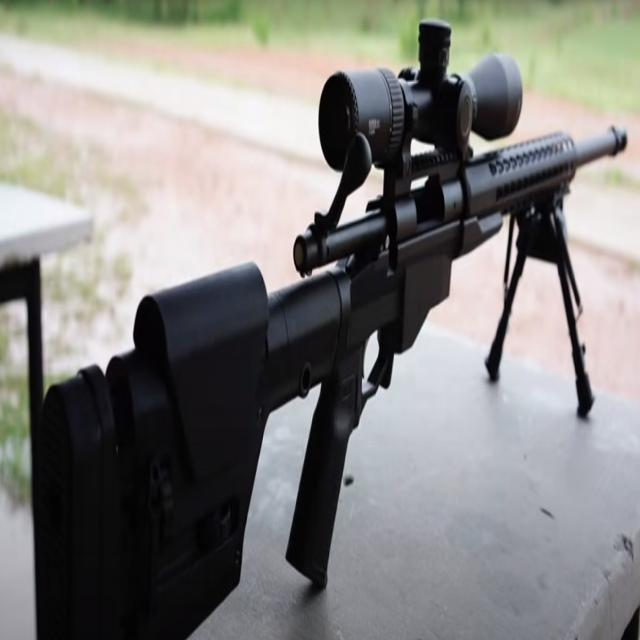rifle: (26, 17, 630, 640)
